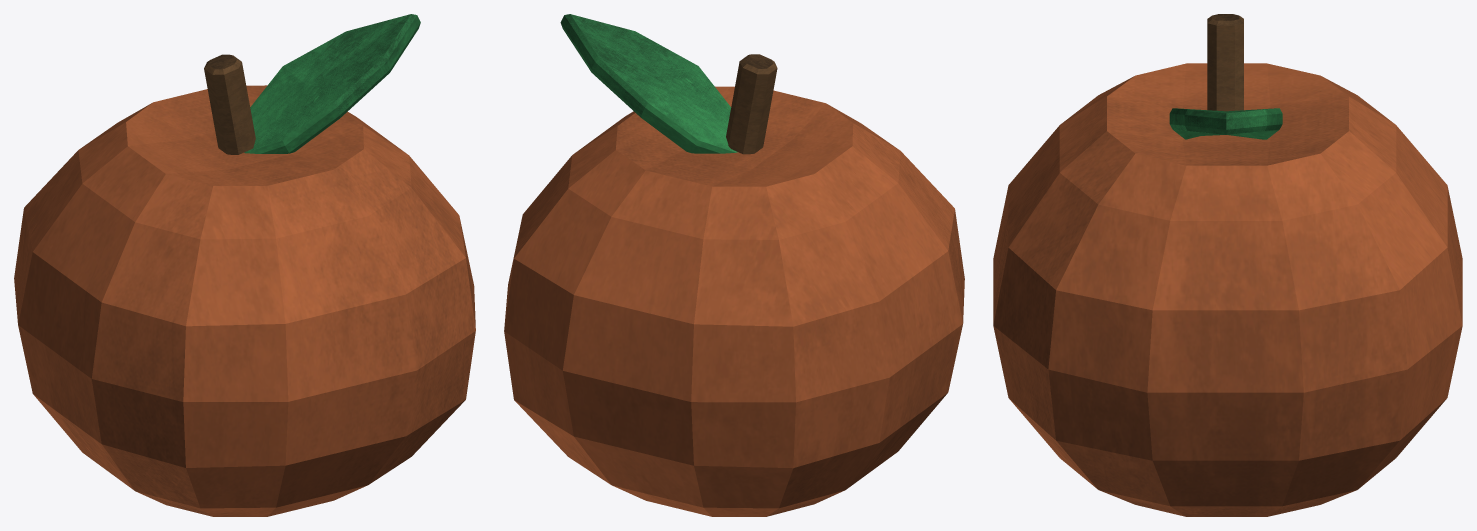
Rendered from Orange.fbx.
3 renders of one model, left to right at view 1: azimuth 30°, elevation 25°; view 2: azimuth 150°, elevation 25°; view 3: azimuth 270°, elevation 25°, orthographic. The views are drawn at different scales.
Parts seen in each view (by area): view 1: Taronja, Fulla, Palo; view 2: Taronja, Fulla, Palo; view 3: Taronja, Palo, Fulla.
Boxes of the visible parts, <box> form: Taronja: <box>14,85,475,516</box>; Fulla: <box>244,14,420,153</box>; Palo: <box>204,54,255,154</box>; Taronja: <box>504,86,964,516</box>; Fulla: <box>560,14,737,153</box>; Palo: <box>726,54,777,154</box>; Taronja: <box>993,63,1462,516</box>; Palo: <box>1207,14,1243,111</box>; Fulla: <box>1169,108,1282,139</box>.
Size of the model in its own units: 84.44 by 92.38 by 84.59.
3 materials, 3 textured.
